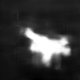plane: (19, 26, 72, 68)
